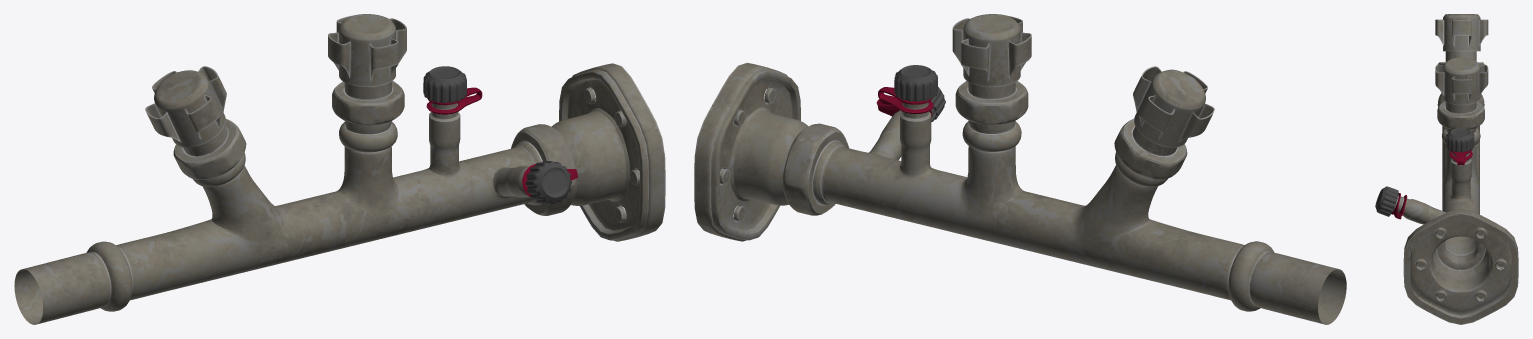
3 renders of one model, left to right at view 1: azimuth 30°, elevation 25°; view 2: azimuth 150°, elevation 25°; view 3: azimuth 270°, elevation 25°, orthographic. The views are drawn at different scales.
Parts seen in each view (by area): view 1: Pipe sketchfab_Pipe HP_Mat_0; view 2: Pipe sketchfab_Pipe HP_Mat_0; view 3: Pipe sketchfab_Pipe HP_Mat_0.
Boxes of the visible parts, box(x1,y1,x2,y2) form: Pipe sketchfab_Pipe HP_Mat_0: box(14, 14, 665, 324); Pipe sketchfab_Pipe HP_Mat_0: box(694, 14, 1346, 324); Pipe sketchfab_Pipe HP_Mat_0: box(1375, 14, 1518, 324).
Bounding box in the file's own units: 23.36 × 10.3 × 7.43.
1 material, 1 textured.
